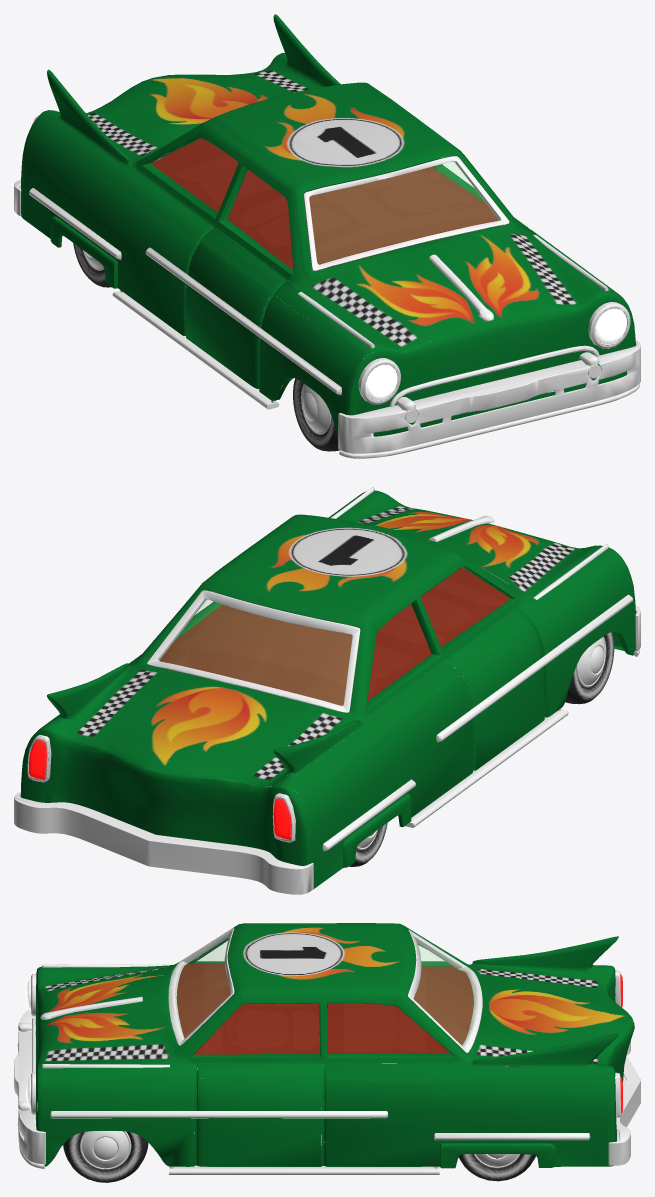
File: toycar.glb
3 views of the same model, one above another, from view 1: azimuth 30°, elevation 25°; view 2: azimuth 150°, elevation 25°; view 3: azimuth 270°, elevation 25° (orthographic). The views are drawn at different scales.
Visible parts, largest first — view 1: ToyCar, Glass; view 2: ToyCar, Glass; view 3: ToyCar, Glass.
Boxes of the visible parts, x1,y1,x2,y2 form: ToyCar: (14,14,640,458); Glass: (309,162,499,263); ToyCar: (14,487,640,894); Glass: (159,599,351,705); ToyCar: (14,923,640,1182); Glass: (175,935,475,1045).
Size of the model in its own units: 0.0187 by 0.0116 by 0.0384.
2 materials, 1 textured.
